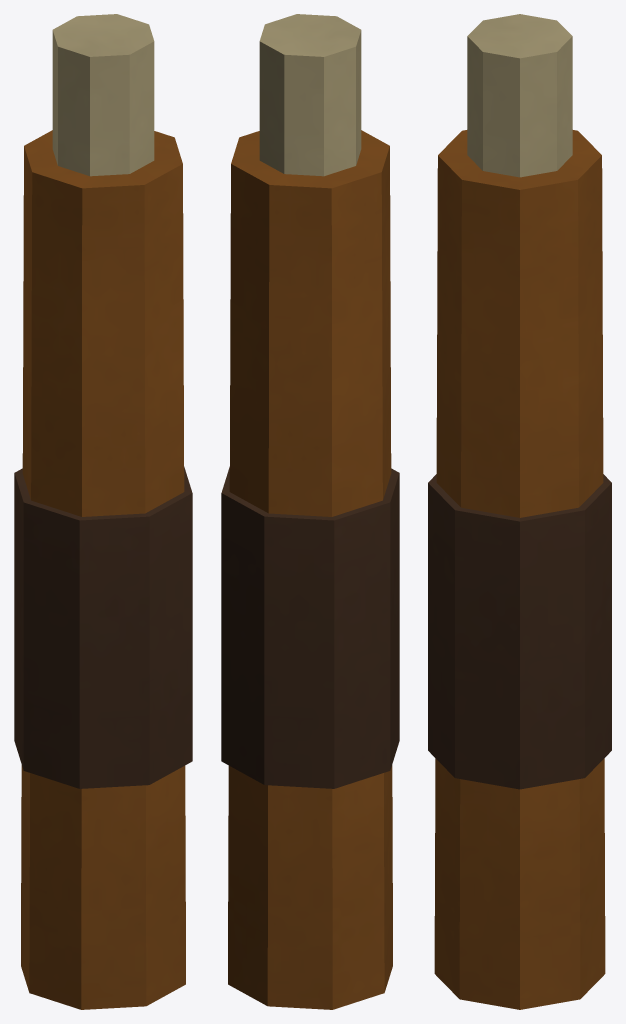
File: BloodVial.glb
The picture shows the model from 3 angles, left to right: view 1: azimuth 30°, elevation 25°; view 2: azimuth 150°, elevation 25°; view 3: azimuth 270°, elevation 25°; orthographic projection.
Parts seen in each view (by area): view 1: BloodVial; view 2: BloodVial; view 3: BloodVial.
Boxes of the visible parts, x1,y1,x2,y2 form: BloodVial: (14,14,192,1009); BloodVial: (221,14,399,1009); BloodVial: (428,14,611,1009).
Bounding box in the file's own units: 0.056 × 0.315 × 0.056.
Materials: 3 (3 with a texture image).
